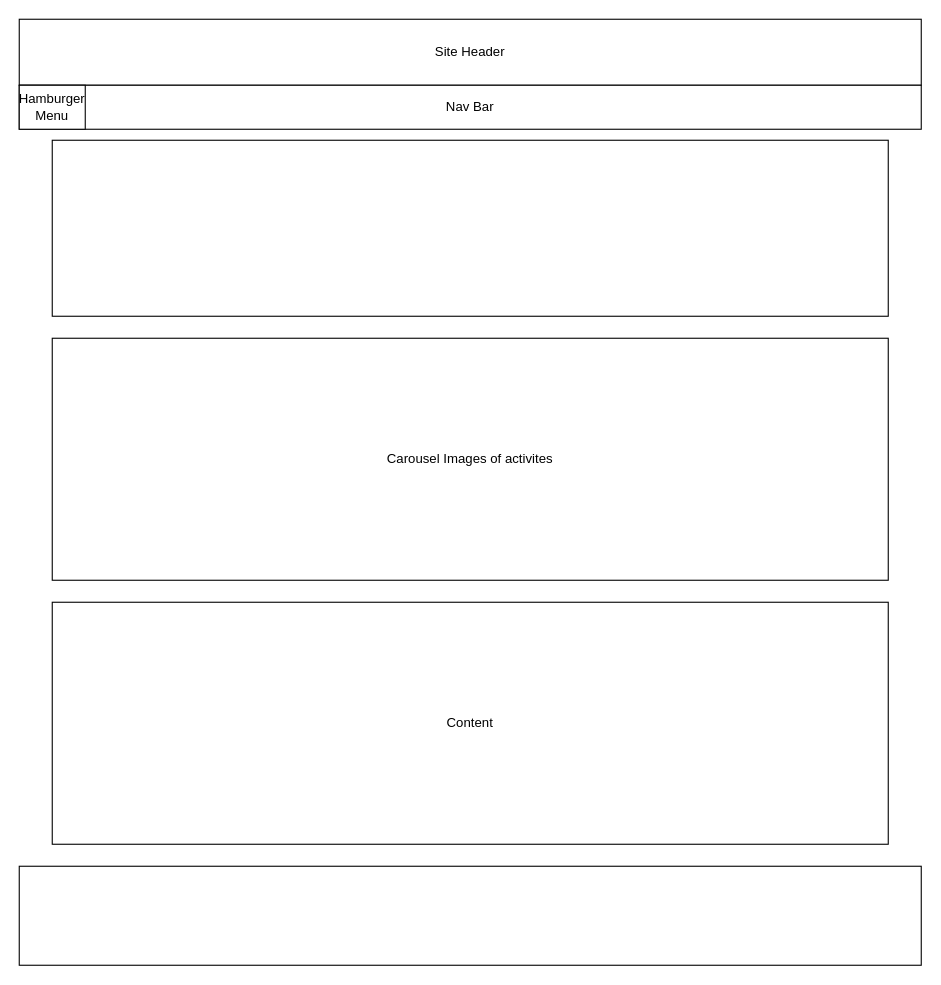
Some shapes in this 941 by 985 pixel diagram are drawn without their labels. The shapes that lost their labels are listed below. From the top down, each one's centre as x and y in pixels, then its label:
At point (469, 227): "Content, intro maybe".
At point (469, 915): "Footer".
